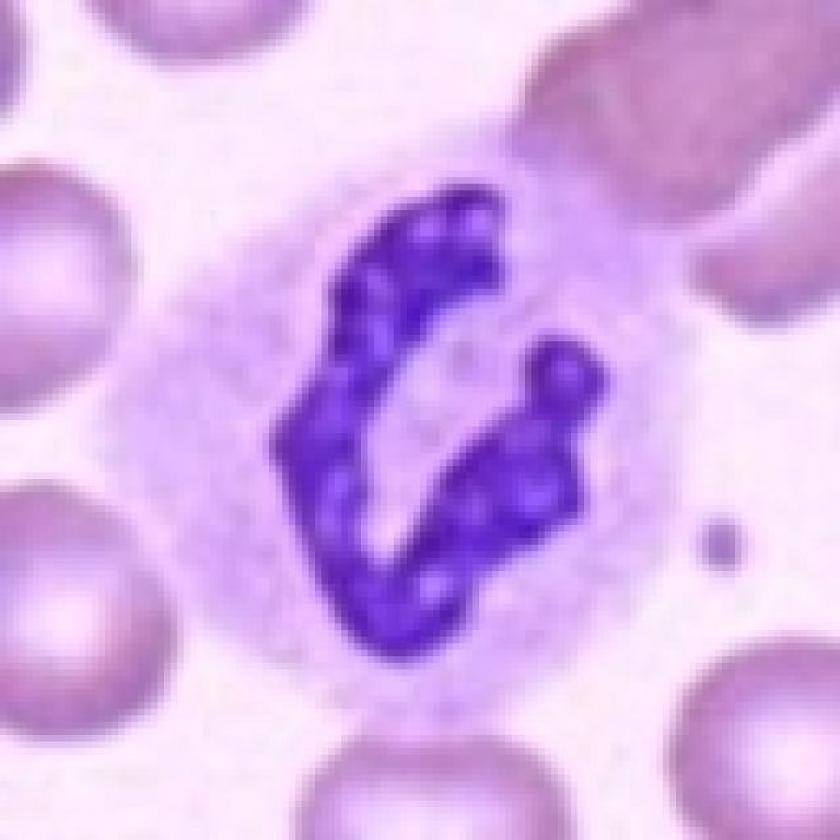neutrophil: (118, 110, 694, 691)
